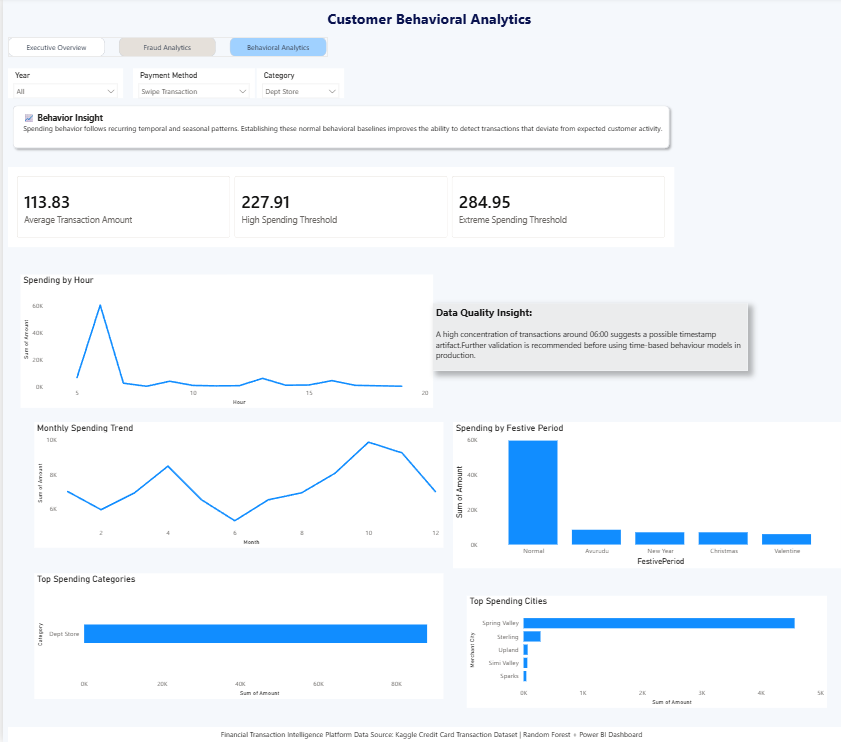

The page's visual inventory and layout, read from the dashboard file:
{"tool":"powerbi","page":{"name":"Behavioral Analytics","canvas":[1600,1400],"ordinal":2},"visuals":[{"type":"textbox","box":[0,0,1600,75.7],"z":0},{"type":"slicer","fields":{"Values":["cleaned_transactions.Year"]},"box":[10,132.9,215.7,55.7],"z":1000},{"type":"slicer","fields":{"Values":["cleaned_transactions.Use Chip"]},"box":[242.9,132.9,228.6,55.7],"z":2000},{"type":"slicer","fields":{"Values":["cleaned_transactions.Category"]},"box":[475.7,132.9,164.3,55.7],"z":3000},{"type":"lineChart","title":"Spending by Hour","fields":{"Category":["cleaned_transactions.Hour"],"Y":["Sum(cleaned_transactions.Amount)"]},"box":[32,520,774,250],"z":4000},{"type":"lineChart","title":"Monthly Spending Trend","fields":{"Category":["cleaned_transactions.Month"],"Y":["Sum(cleaned_transactions.Amount)"]},"box":[58,798,768,236],"z":6000},{"type":"columnChart","title":"Spending by Festive Period","fields":{"Category":["cleaned_transactions.FestivePeriod"],"Y":["Sum(cleaned_transactions.Amount)"]},"box":[844,798,728,274],"z":7000},{"type":"barChart","title":"Top Spending Categories","fields":{"Category":["cleaned_transactions.Category"],"Y":["Sum(cleaned_transactions.Amount)"]},"box":[58,1082,768,236],"z":8000},{"type":"barChart","title":"Top Spending Cities","fields":{"Category":["cleaned_transactions.Merchant City"],"Y":["Sum(cleaned_transactions.Amount)"]},"box":[870,1124,676,210],"z":9000},{"type":"pageNavigator","box":[10,75.7,600,37.1],"z":9001},{"type":"textbox","box":[10,1370,1590,30],"z":9002},{"type":"shape","box":[10,194,1250,98],"z":9003},{"type":"textbox","box":[32,210,1216,54],"z":9004},{"type":"cardVisual","fields":{"Data":["_Measures.Average Transaction Amount","_Measures.High Spending Threshold","_Measures.Extreme Spending Threshold"]},"box":[10,320,1250,150],"z":9005},{"type":"textbox","box":[806,574,590,126],"z":9006}]}

Visuals, with their boxes in screenshot pixels (x1, y1, x2, y2), scaled from the page's 1600x1400 canvas onto the 841x742 screenshot:
textbox: [0, 0, 840, 40]
slicer - cleaned_transactions.Year: [5, 70, 119, 100]
slicer - cleaned_transactions.Use Chip: [128, 70, 248, 100]
slicer - cleaned_transactions.Category: [250, 70, 336, 100]
"Spending by Hour" lineChart: [17, 276, 424, 408]
"Monthly Spending Trend" lineChart: [30, 423, 434, 548]
"Spending by Festive Period" columnChart: [444, 423, 826, 568]
"Top Spending Categories" barChart: [30, 573, 434, 699]
"Top Spending Cities" barChart: [457, 596, 813, 707]
pageNavigator: [5, 40, 321, 60]
textbox: [5, 726, 840, 741]
shape: [5, 103, 662, 155]
textbox: [17, 111, 656, 140]
cardVisual - _Measures.Average Transaction Amount x _Measures.High Spending Threshold: [5, 170, 662, 249]
textbox: [424, 304, 734, 371]
